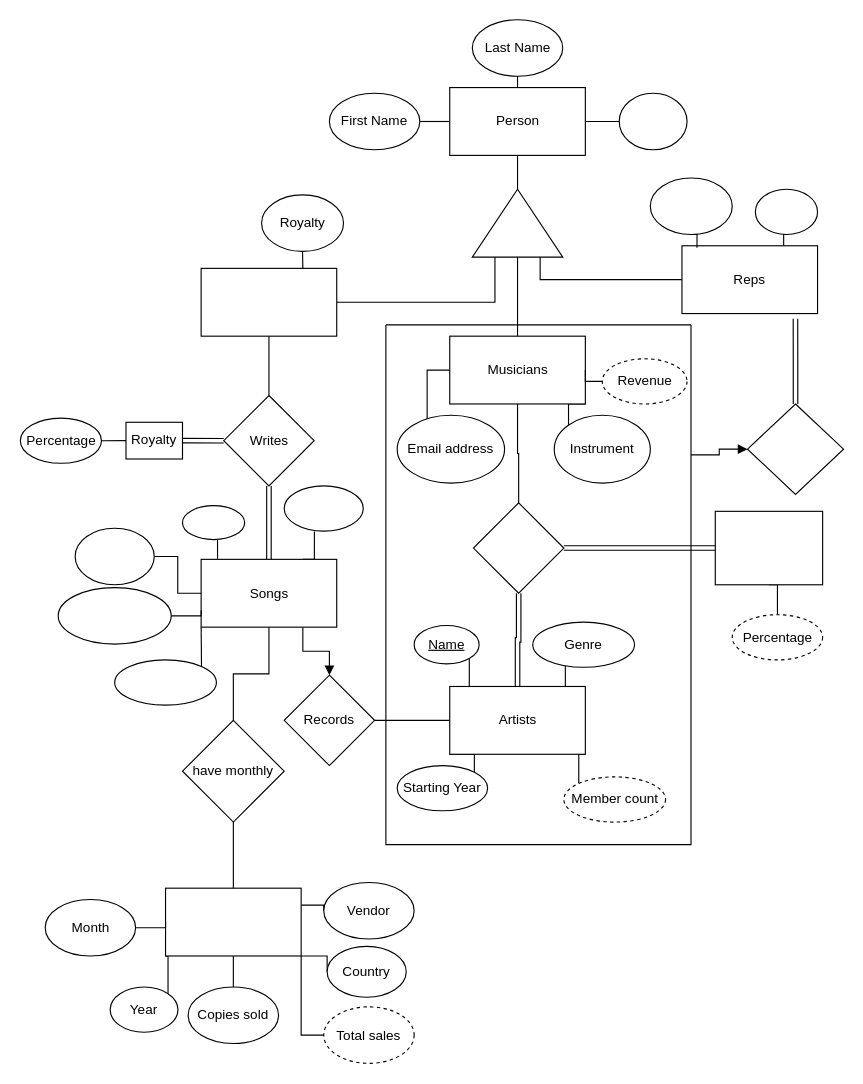
Some shapes in this 863 by 1084 pixel diagram are drawn without their labels. The centre of each missing label's shape, as x and y in pixels:
"Album" belongs at point (323, 508).
"Associated" belongs at point (518, 547).
"Duration" belongs at point (165, 682).
"ISA" belongs at point (517, 222).
"ISRC" belongs at point (213, 522).
"Label" belongs at point (786, 211).
"Phone number" belongs at point (690, 205).
"Represents" belongs at point (795, 448).
"Sales" belongs at point (232, 921).
"Share of revenue" belongs at point (768, 547).
"SIN" belongs at point (652, 121).
"Songwriters" belongs at point (268, 301).
"Title" belongs at point (114, 556).
"Year of release" belongs at point (114, 615).
